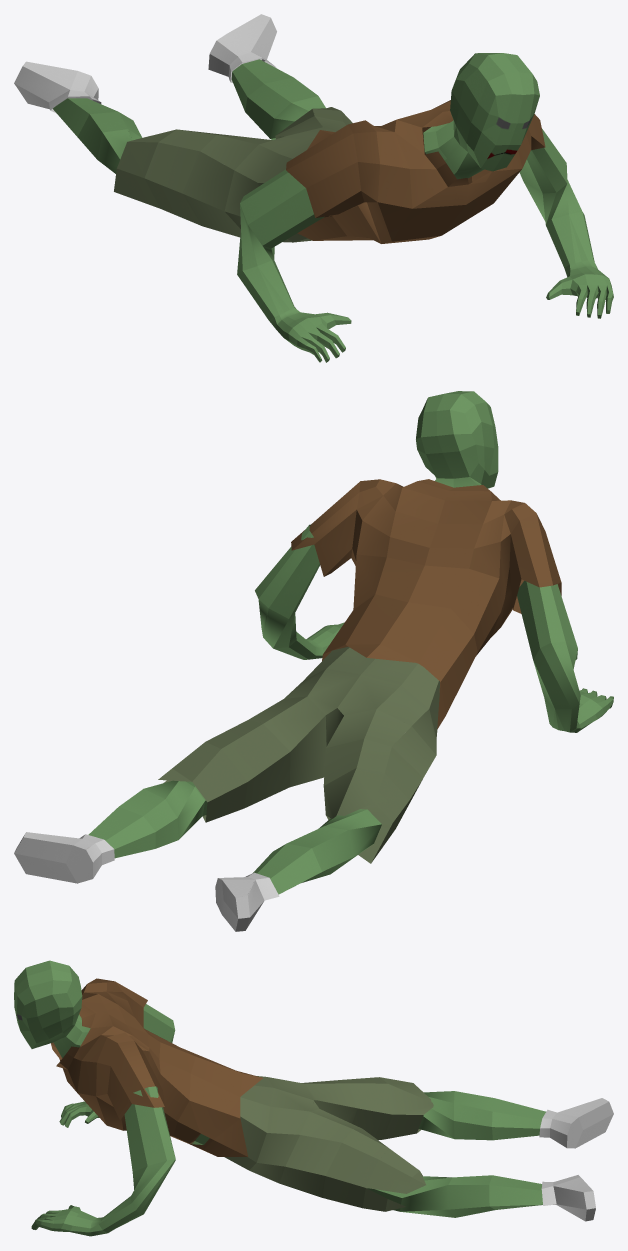
File: ZombieCrawl(148).obj
3 views of the same model, one above another, from view 1: azimuth 30°, elevation 25°; view 2: azimuth 150°, elevation 25°; view 3: azimuth 270°, elevation 25° (orthographic). The views are drawn at different scales.
Visible parts, largest first — view 1: Object001; view 2: Object001; view 3: Object001.
Boxes of the visible parts, x1,y1,x2,y2 form: Object001: [14, 14, 613, 362]; Object001: [14, 391, 613, 931]; Object001: [14, 960, 613, 1236].
Bounding box in the file's own units: 29.35 × 24.13 × 56.14.
